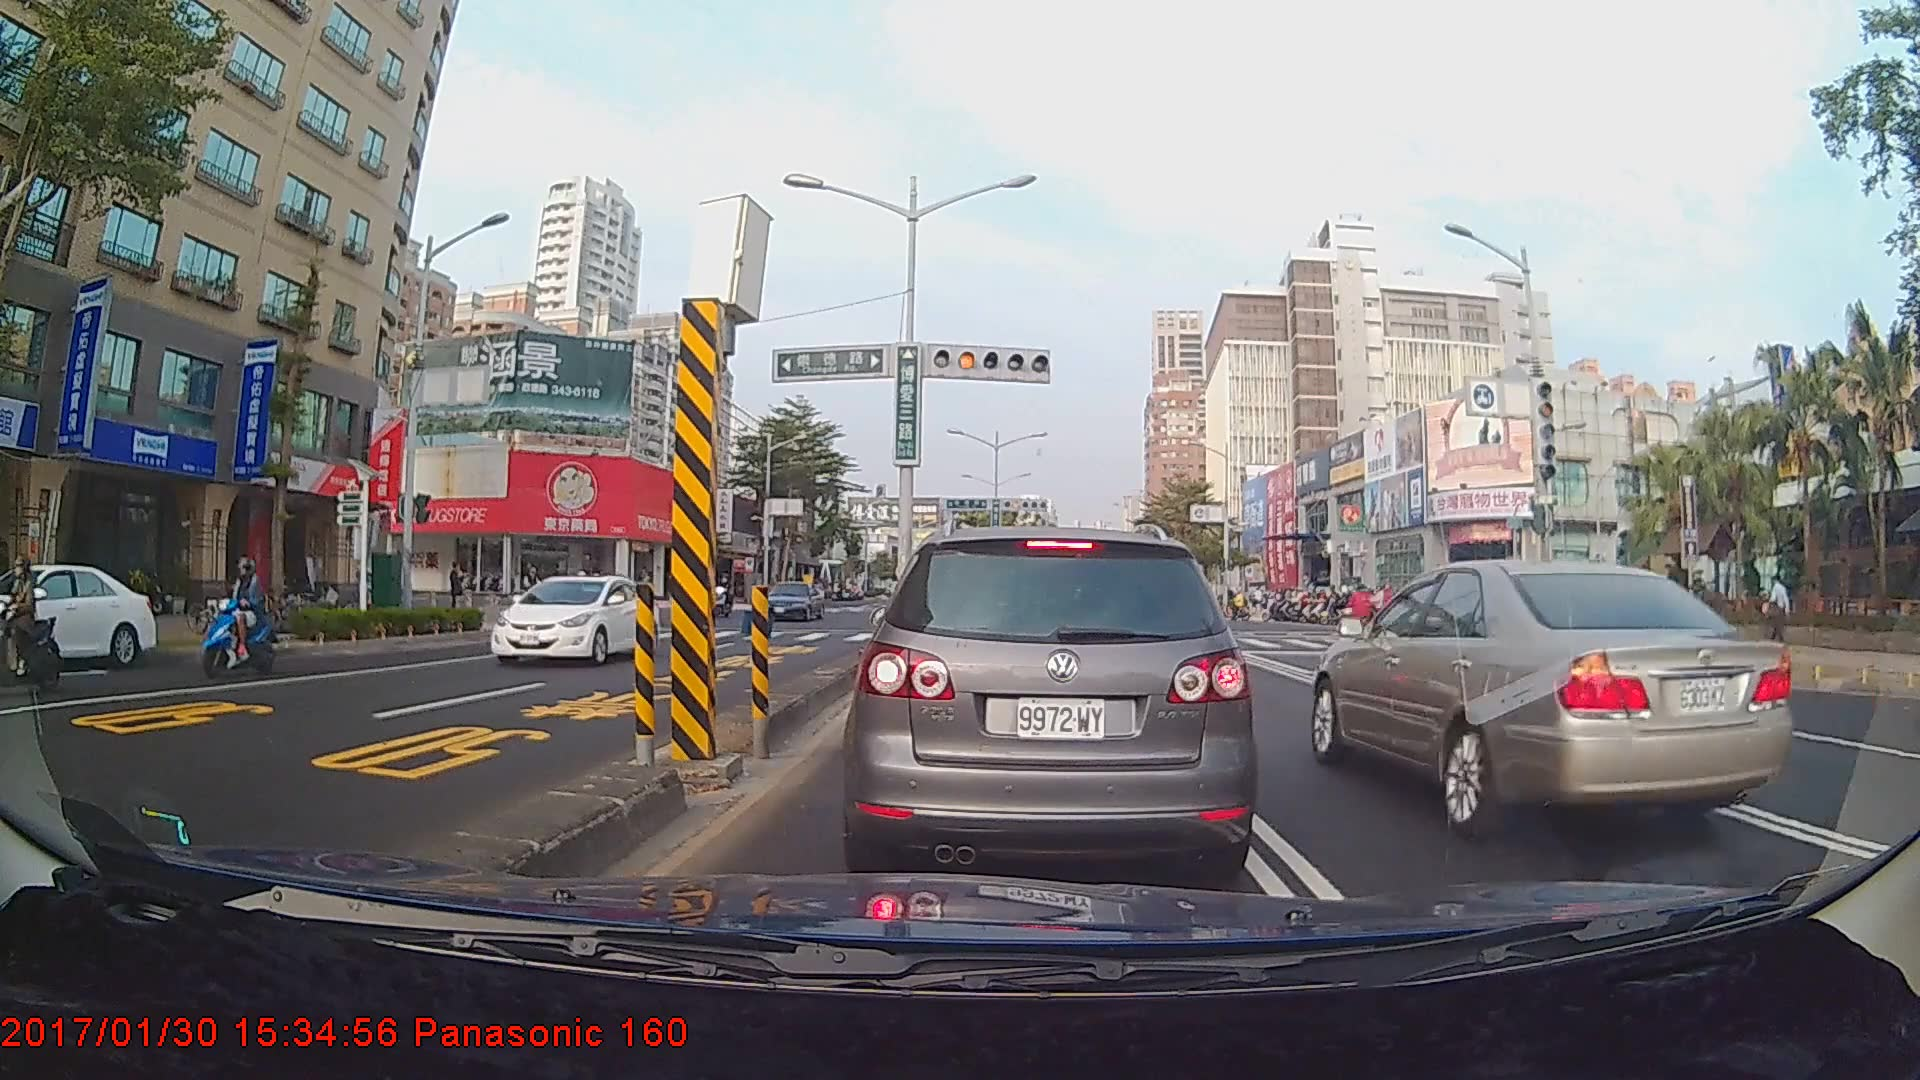pedestrian: (1765, 573, 1791, 647), (448, 558, 468, 621)
rider: (196, 550, 281, 691), (9, 561, 72, 698), (1341, 583, 1386, 663)
vehicle: (1312, 549, 1799, 841), (853, 522, 1248, 881), (0, 561, 179, 671), (488, 574, 660, 666), (758, 578, 825, 622)
